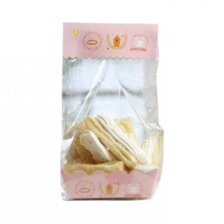snack: (51, 14, 173, 205)
